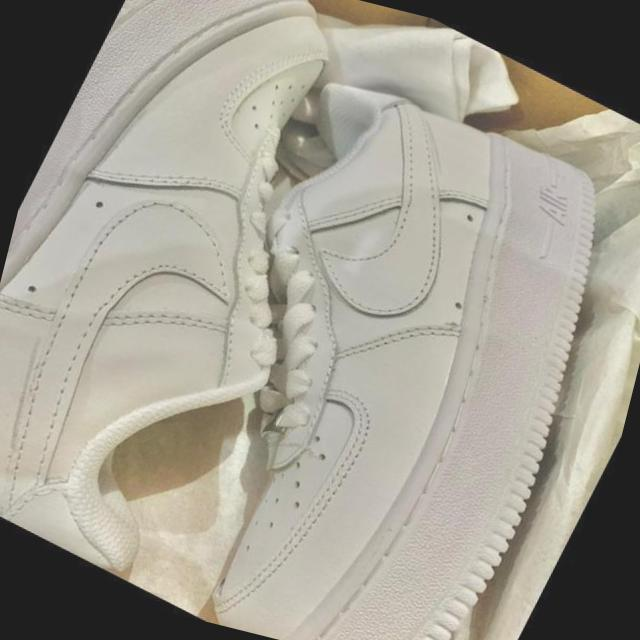nike_fake_airforce: (81, 34, 640, 640), (0, 0, 445, 630)
